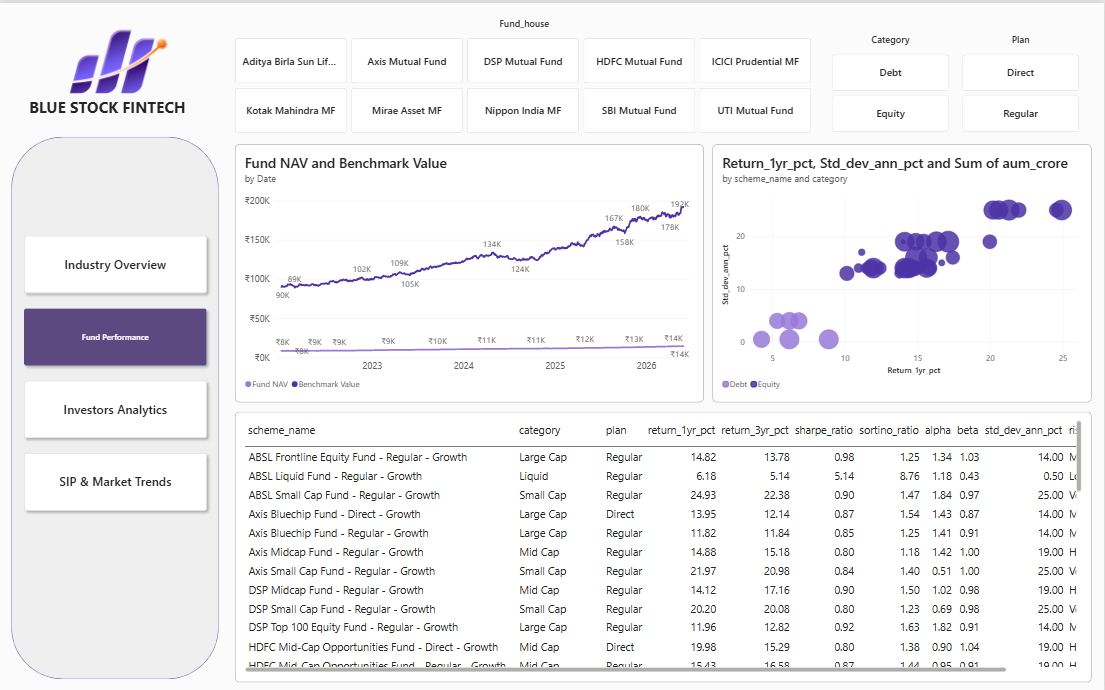

Layout of this report page (visuals, bound fields, positions):
{"tool":"powerbi","page":{"name":"Fund Performance","canvas":[1920,1200],"ordinal":1},"visuals":[{"type":"image","box":[0,0,404.3,204.3],"z":0,"group":"g1"},{"type":"scatterChart","fields":{"X":["Sum(scheme_performance.return_1yr_pct)"],"Y":["Sum(scheme_performance.std_dev_ann_pct)"],"Size":["Sum(scheme_performance.aum_crore)"],"Series":["fund_master.category"],"Category":["scheme_performance.scheme_name"]},"box":[1238.3,244.7,659.6,448.9],"z":0},{"type":"textbox","box":[19.6,163,334.8,52.2],"z":1000,"group":"g1"},{"type":"tableEx","fields":{"Values":["scheme_performance.scheme_name","scheme_performance.category","scheme_performance.plan","scheme_performance.return_1yr_pct","scheme_performance.return_3yr_pct","scheme_performance.sharpe_ratio","scheme_performance.sortino_ratio","scheme_performance.alpha","scheme_performance.beta","scheme_performance.std_dev_ann_pct","scheme_performance.risk_grade"]},"box":[408.5,710.6,1489.4,470.2],"z":1000},{"type":"lineChart","fields":{"Category":["dim_date.Date"],"Y":["_Measures.Fund NAV","_Measures.Benchmark Value"]},"box":[408.5,244.7,814.9,448.9],"z":2000},{"type":"advancedSlicerVisual","title":"Fund_house","fields":{"Values":["fund_master.fund_house"]},"box":[408.5,23.4,1006.4,202.1],"z":3000},{"type":"advancedSlicerVisual","title":"Category","fields":{"Values":["fund_master.category"]},"box":[1446.8,53.2,202.1,172.3],"z":4000},{"type":"advancedSlicerVisual","title":"Plan","fields":{"Values":["fund_master.plan"]},"box":[1674.5,53.2,202.1,172.3],"z":5000},{"type":"group","id":"g1","title":"Group 1","box":[0,0,404.3,215.2],"z":6000},{"type":"shape","box":[19.6,232.6,360.9,943.5],"z":6001},{"type":"pageNavigator","box":[32.6,395.7,337,497.8],"z":6002}]}

Visuals, with their boxes in screenshot pixels (x1, y1, x2, y2), scaled from the page's 1920x1200 canvas onto the 1105x690 screenshot:
image: (x1=0, y1=0, x2=233, y2=117)
scatterChart - Sum(scheme_performance.return_1yr_pct) x Sum(scheme_performance.std_dev_ann_pct): (x1=713, y1=141, x2=1092, y2=399)
textbox: (x1=11, y1=94, x2=204, y2=124)
tableEx - scheme_performance.scheme_name x scheme_performance.category: (x1=235, y1=409, x2=1092, y2=679)
lineChart - dim_date.Date x _Measures.Fund NAV: (x1=235, y1=141, x2=704, y2=399)
"Fund_house" advancedSlicerVisual: (x1=235, y1=13, x2=814, y2=130)
"Category" advancedSlicerVisual: (x1=833, y1=31, x2=949, y2=130)
"Plan" advancedSlicerVisual: (x1=964, y1=31, x2=1080, y2=130)
"Group 1" group: (x1=0, y1=0, x2=233, y2=124)
shape: (x1=11, y1=134, x2=219, y2=676)
pageNavigator: (x1=19, y1=228, x2=213, y2=514)
